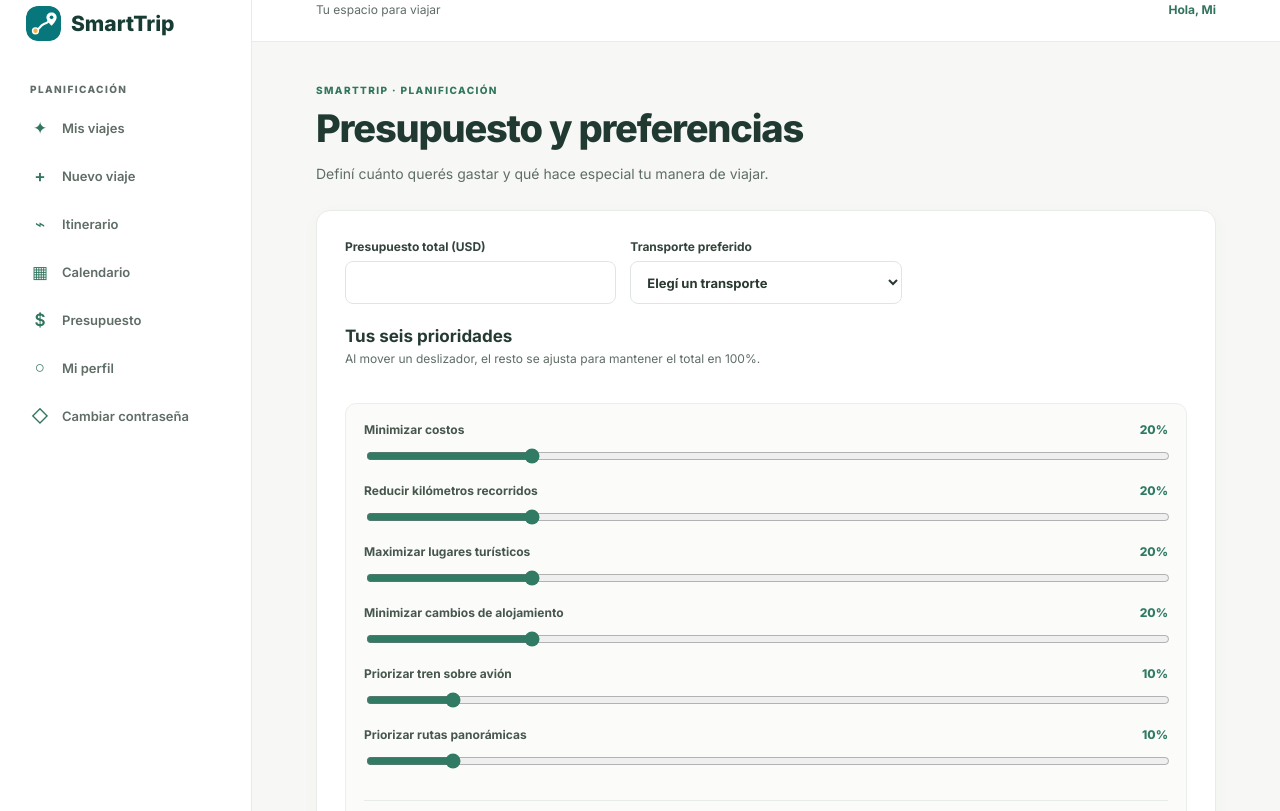
Test: BudgetPreferences › acepta un viaje sin `viaje`, presupuesto ni transporte y usa las prioridades del perfil
The width and height of the screenshot is (1280, 811).
Expected: the slider named "Minimizar costos" holds "20", x1=366 y1=448 x2=1170 y2=464
Expected: the dropdown shows "Elegí un transporte", x1=630 y1=261 x2=902 y2=304
Type "900" into the number field labelled "Presupuesto total (USD)" at coordinates (481, 282), box x1=345 y1=261 x2=616 y2=304
(page scrolled)
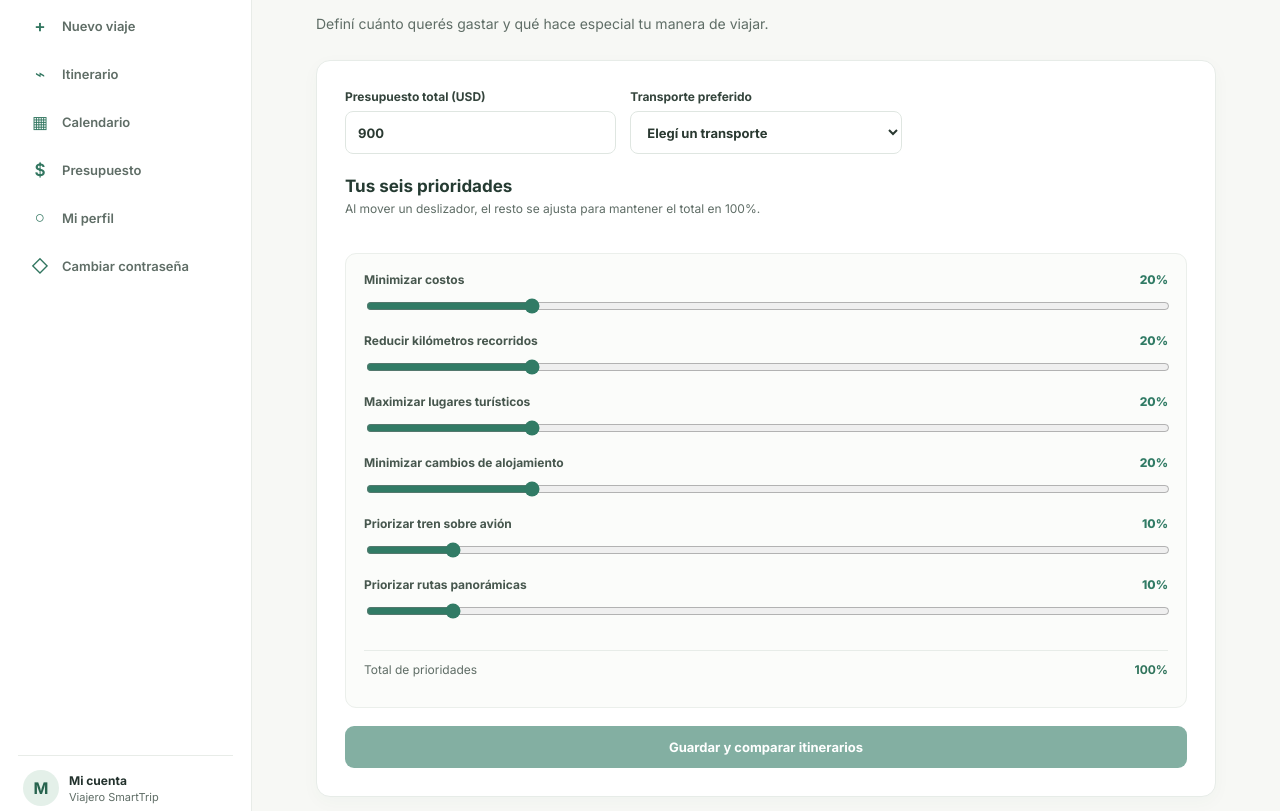
Expected: the button "Guardar y comparar itinerarios" is disabled, x1=345 y1=726 x2=1187 y2=768
Submit the form
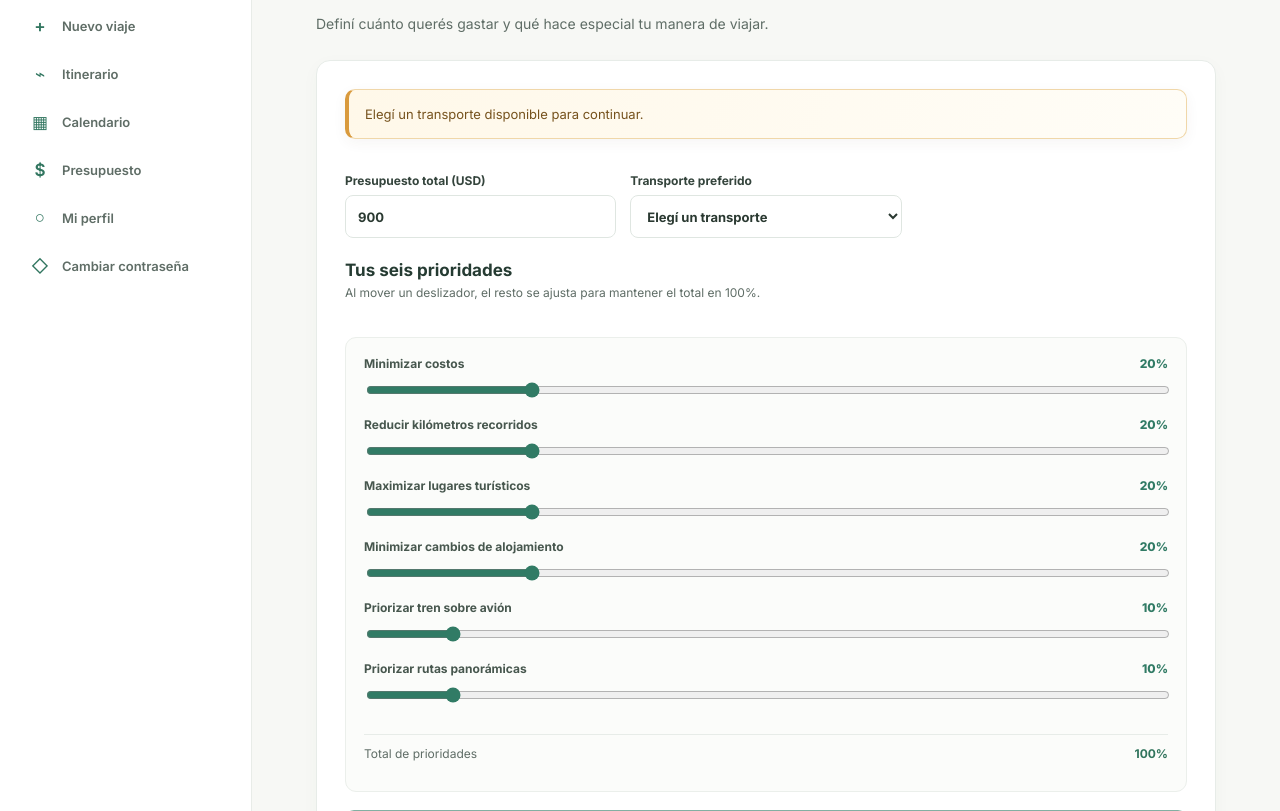
Now the message reads "Elegí un transporte disponible para continuar.", box x1=365 y1=106 x2=644 y2=122
